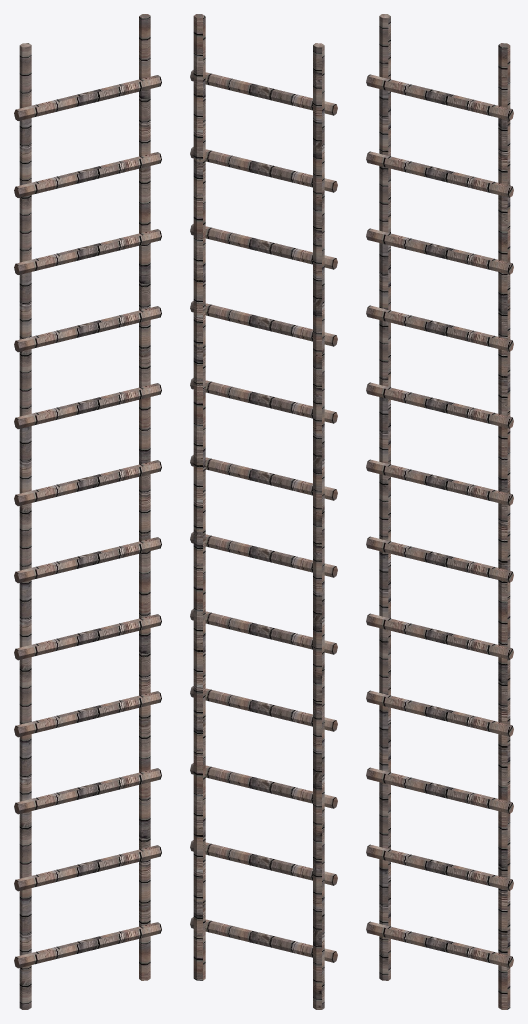
File: Vl_Ladder.glb
3 renders of one model, left to right at view 1: azimuth 30°, elevation 25°; view 2: azimuth 150°, elevation 25°; view 3: azimuth 330°, elevation 25°, orthographic.
Visible parts, largest first — view 1: Ladder; view 2: Ladder; view 3: Ladder.
Part boxes in pixels (box(x1,y1,x2,y2)): Ladder: box(14, 14, 161, 1009); Ladder: box(190, 14, 337, 1009); Ladder: box(366, 14, 513, 1009).
Size of the model in its own units: 0.6202 by 4 by 0.0685.
Materials: 1 (1 with a texture image).
